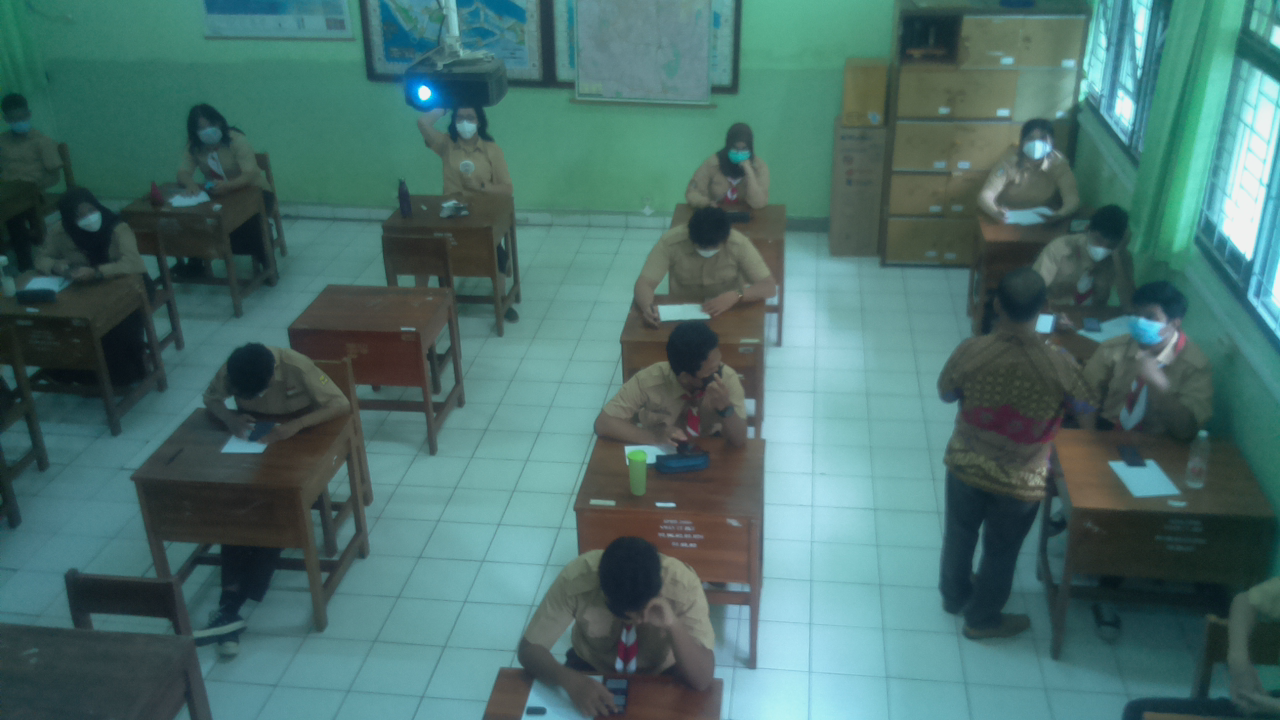Student: (549, 539, 701, 671), (955, 271, 1069, 446), (1087, 283, 1202, 426), (623, 323, 734, 431), (659, 207, 761, 297), (428, 101, 513, 205), (208, 343, 326, 417), (51, 189, 144, 277), (1051, 207, 1131, 305), (991, 119, 1075, 208), (179, 99, 262, 188), (1, 93, 64, 189), (695, 123, 767, 205)
